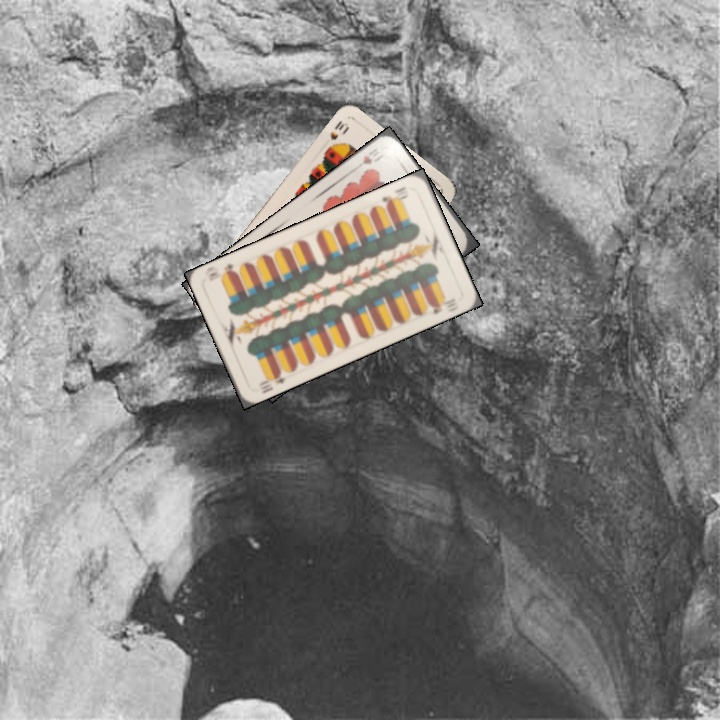E10: (378, 182, 411, 209), (255, 367, 288, 391)
H10: (358, 144, 386, 167)
S10: (323, 116, 351, 152)
